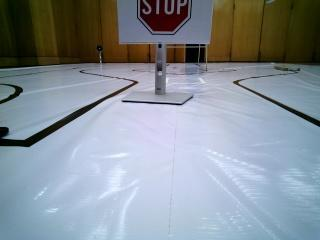stop: (119, 0, 209, 44)
